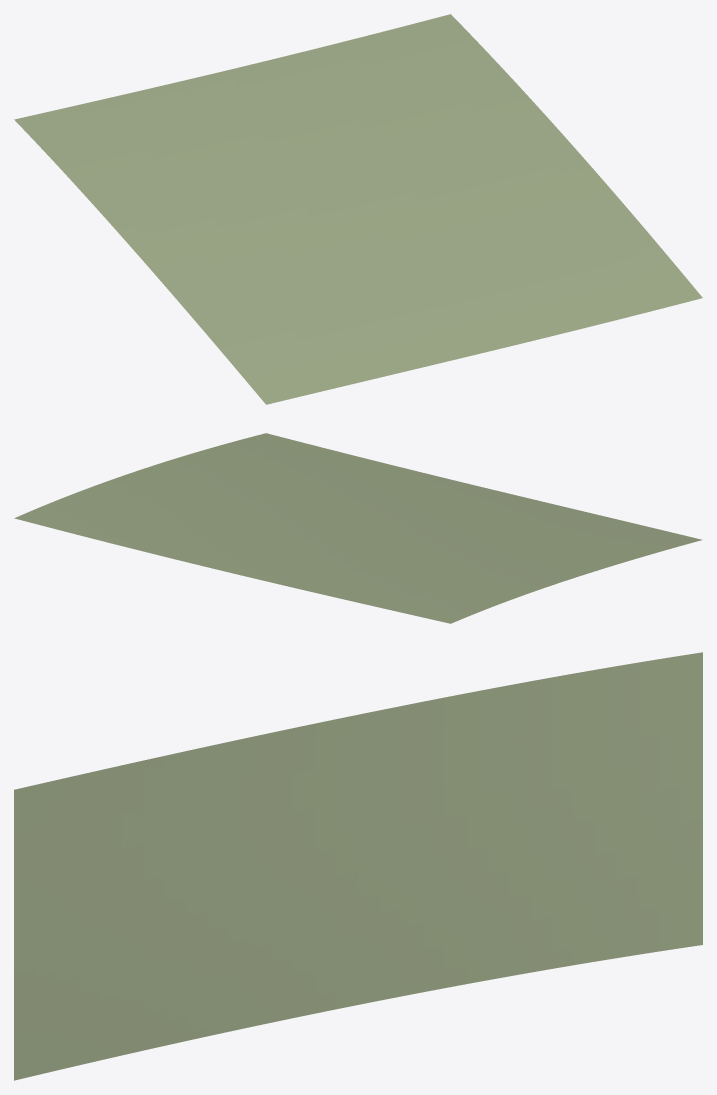
Rendered from expanse-30-18.glb.
3 views of the same model, one above another, from view 1: azimuth 30°, elevation 25°; view 2: azimuth 150°, elevation 25°; view 3: azimuth 270°, elevation 25° (orthographic). The views are drawn at different scales.
Parts seen in each view (by area): view 1: expanse-30-18; view 2: expanse-30-18; view 3: expanse-30-18.
Boxes of the visible parts, box(x1,y1,x2,y2) form: expanse-30-18: box(14, 14, 702, 404); expanse-30-18: box(14, 433, 702, 623); expanse-30-18: box(14, 652, 702, 1080).
Bounding box in the file's own units: 256 × 57.01 × 256.
